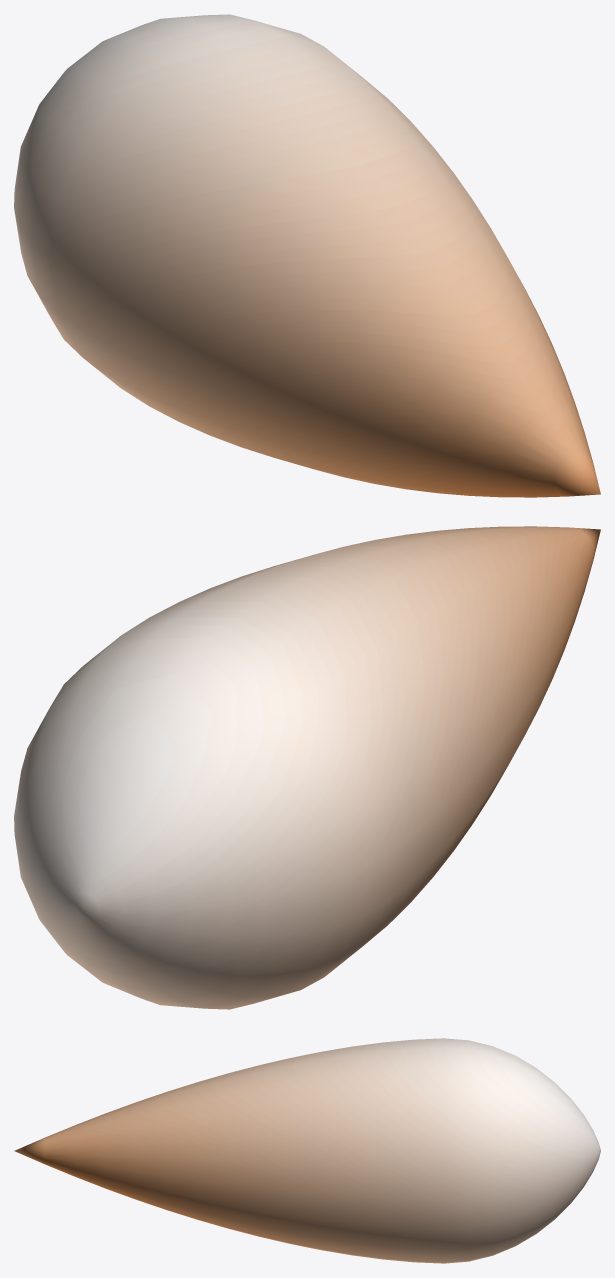
Rendered from atomFPlayerBullet.obj.
The picture shows the model from 3 angles, top to bottom: view 1: azimuth 30°, elevation 25°; view 2: azimuth 150°, elevation 25°; view 3: azimuth 270°, elevation 25°; orthographic projection. The views are drawn at different scales.
Visible parts, largest first — view 1: atomFPlayerBullet; view 2: atomFPlayerBullet; view 3: atomFPlayerBullet.
Part boxes in pixels (left/top/right/bottom): atomFPlayerBullet: left=14, top=14, right=600, bottom=497; atomFPlayerBullet: left=14, top=526, right=600, bottom=1009; atomFPlayerBullet: left=14, top=1038, right=600, bottom=1263.
Size of the model in its own units: 1.16 by 1.16 by 3.
Materials: 1 (1 with a texture image).
